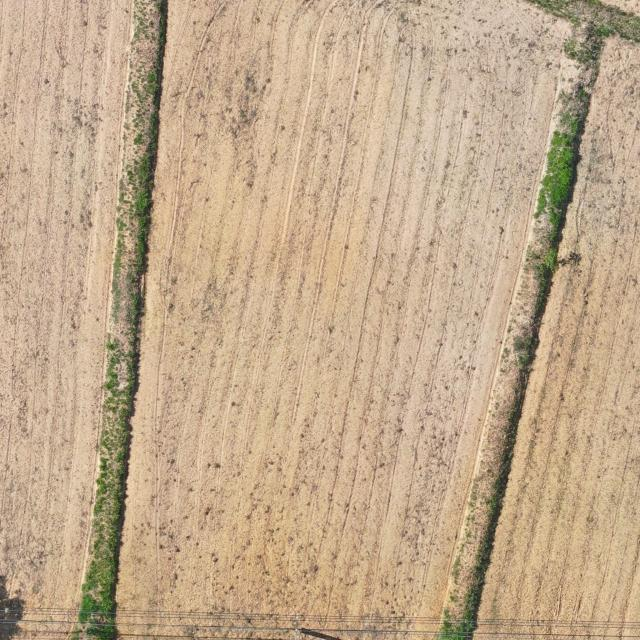Tree: (541, 247, 559, 275)
